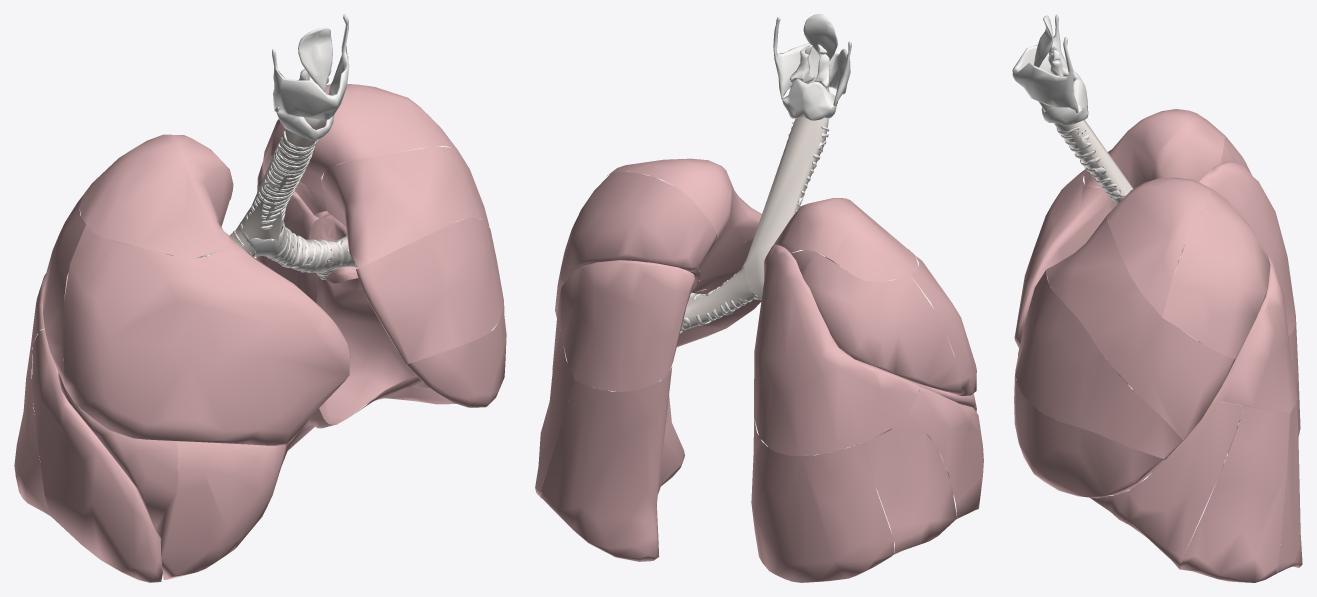
File: lungs.glb
3 views of the same model, side by side, from view 1: azimuth 30°, elevation 25°; view 2: azimuth 150°, elevation 25°; view 3: azimuth 270°, elevation 25° (orthographic). The views are drawn at different scales.
Visible parts, largest first — view 1: VH_F_right_anterior_bronchopulmonary_segm, VH_F_right_anterior_basal_bronchopulmonary_segment, VH_F_lingula_superior_bronchopulmonary_segment, VH_F_right_apical_bronchopulmonary_segment, VH_F_left_anterior_bronchopulmonary_segment, VH_F_right_medial_bronchopulmonary_segment, VH_F_left_apical_bronchopulmonary_segment, VH_F_left_medial_basal_bronchopulmonary_segment, VH_F_right_lateral_bronchopulmonary_segmennt, VH_F_lingula_inferior_bronchopulmonary_segment, VH_F_right_posterior_bronchopulmonary_segment, VH_F_trachea (+13 smaller); view 2: VH_F_right_superior_bronchopulmonary_segment, VH_F_left_posterior_basal_bronchopulmonary_segment, VH_F_right_posterior_basal_bronchopulmonary_segment, VH_F_left_superior_bronchopulmonary_segment, VH_F_right_posterior_bronchopulmonary_segment, VH_F_left_posterior_bronchopulmonary_segment, VH_F_right_lateral_basal_bronchopulmonary_segment, VH_F_right_apical_bronchopulmonary_segment, VH_F_right_anterior_basal_bronchopulmonary_segment, VH_F_trachea, VH_F_left_apical_bronchopulmonary_segment, VH_F_right_anterior_bronchopulmonary_segm (+8 smaller); view 3: VH_F_left_anterior_bronchopulmonary_segment, VH_F_lingula_superior_bronchopulmonary_segment, VH_F_left_lateral_basal_bronchopulmonary_segment, VH_F_left_posterior_bronchopulmonary_segment, VH_F_left_anterior_basal_bronchopulmonary_segment, VH_F_left_apical_bronchopulmonary_segment, VH_F_lingula_inferior_bronchopulmonary_segment, VH_F_right_apical_bronchopulmonary_segment, VH_F_left_superior_bronchopulmonary_segment, VH_F_right_anterior_bronchopulmonary_segm, VH_F_right_superior_bronchopulmonary_segment, VH_F_thyroid_cartilage (+7 smaller).
Boxes of the visible parts, bbox=[...] form: VH_F_right_anterior_bronchopulmonary_segm: bbox=[63, 224, 350, 445]; VH_F_right_anterior_basal_bronchopulmonary_segment: bbox=[32, 329, 178, 582]; VH_F_lingula_superior_bronchopulmonary_segment: bbox=[356, 218, 503, 364]; VH_F_right_apical_bronchopulmonary_segment: bbox=[79, 134, 233, 258]; VH_F_left_anterior_bronchopulmonary_segment: bbox=[321, 146, 489, 268]; VH_F_right_medial_bronchopulmonary_segment: bbox=[160, 441, 286, 579]; VH_F_left_apical_bronchopulmonary_segment: bbox=[271, 84, 457, 211]; VH_F_left_medial_basal_bronchopulmonary_segment: bbox=[316, 234, 429, 424]; VH_F_right_lateral_bronchopulmonary_segmennt: bbox=[58, 359, 178, 555]; VH_F_lingula_inferior_bronchopulmonary_segment: bbox=[406, 305, 506, 407]; VH_F_right_posterior_bronchopulmonary_segment: bbox=[42, 192, 85, 386]; VH_F_trachea: bbox=[236, 117, 326, 255]; VH_F_right_superior_bronchopulmonary_segment: bbox=[754, 244, 919, 456]; VH_F_left_posterior_basal_bronchopulmonary_segment: bbox=[541, 367, 684, 561]; VH_F_right_posterior_basal_bronchopulmonary_segment: bbox=[751, 418, 894, 582]; VH_F_left_superior_bronchopulmonary_segment: bbox=[557, 260, 694, 391]; VH_F_right_posterior_bronchopulmonary_segment: bbox=[791, 249, 961, 393]; VH_F_left_posterior_bronchopulmonary_segment: bbox=[560, 171, 716, 282]; VH_F_right_lateral_basal_bronchopulmonary_segment: bbox=[866, 414, 957, 554]; VH_F_right_apical_bronchopulmonary_segment: bbox=[773, 198, 918, 282]; VH_F_right_anterior_basal_bronchopulmonary_segment: bbox=[908, 384, 983, 518]; VH_F_trachea: bbox=[744, 87, 829, 299]; VH_F_left_apical_bronchopulmonary_segment: bbox=[607, 158, 732, 241]; VH_F_right_anterior_bronchopulmonary_segm: bbox=[825, 256, 976, 395]; VH_F_left_anterior_bronchopulmonary_segment: bbox=[1046, 215, 1235, 440]; VH_F_lingula_superior_bronchopulmonary_segment: bbox=[1015, 270, 1183, 459]; VH_F_left_lateral_basal_bronchopulmonary_segment: bbox=[1179, 406, 1290, 582]; VH_F_left_posterior_bronchopulmonary_segment: bbox=[1162, 189, 1270, 358]; VH_F_left_anterior_basal_bronchopulmonary_segment: bbox=[1090, 401, 1244, 568]; VH_F_left_apical_bronchopulmonary_segment: bbox=[1107, 177, 1211, 317]; VH_F_lingula_inferior_bronchopulmonary_segment: bbox=[1014, 370, 1164, 498]; VH_F_right_apical_bronchopulmonary_segment: bbox=[1084, 109, 1225, 188]; VH_F_left_superior_bronchopulmonary_segment: bbox=[1212, 257, 1297, 412]; VH_F_right_anterior_bronchopulmonary_segm: bbox=[1014, 168, 1116, 348]; VH_F_right_superior_bronchopulmonary_segment: bbox=[1182, 162, 1295, 335]; VH_F_thyroid_cartilage: bbox=[1012, 14, 1078, 113].
Size of the model in its own units: 0.2508 by 0.2967 by 0.1528.
